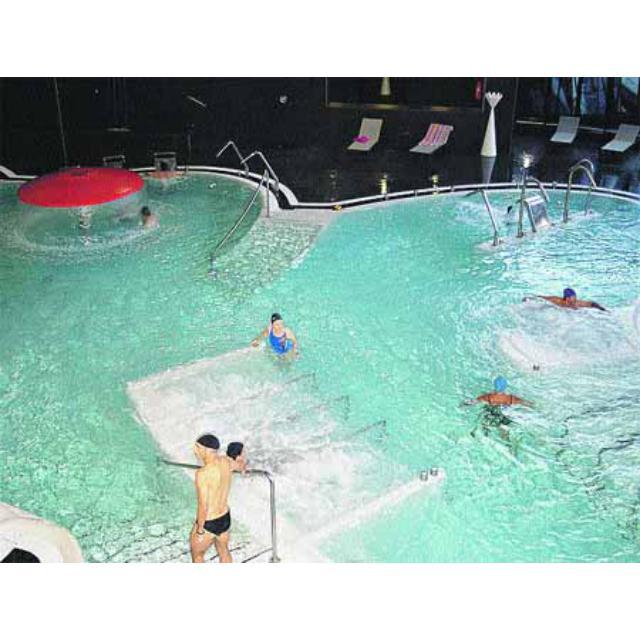human: (190, 425, 234, 561), (467, 374, 533, 428), (525, 280, 613, 315), (250, 311, 288, 352), (139, 205, 163, 229), (228, 437, 245, 466)
